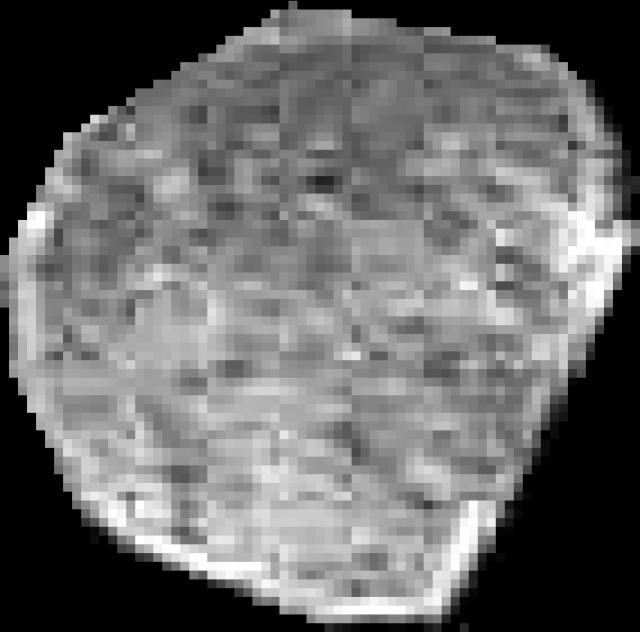tumor_good_chance: (0, 1, 640, 632)
